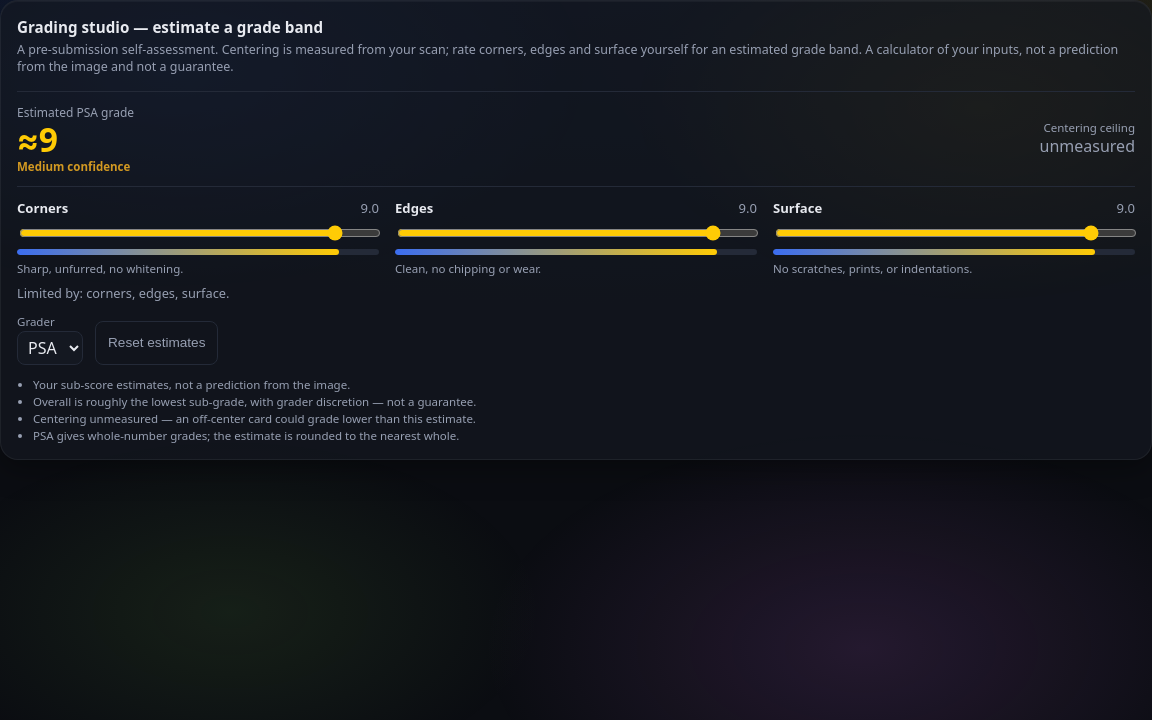
GradingStudio › switches grader and re-snaps the estimate (PSA whole vs BGS half)
Set the slider labelled "Surface 9.0 No scratches, prints, or indentations." to "7.5": (1033, 233) [775,225,1137,241]
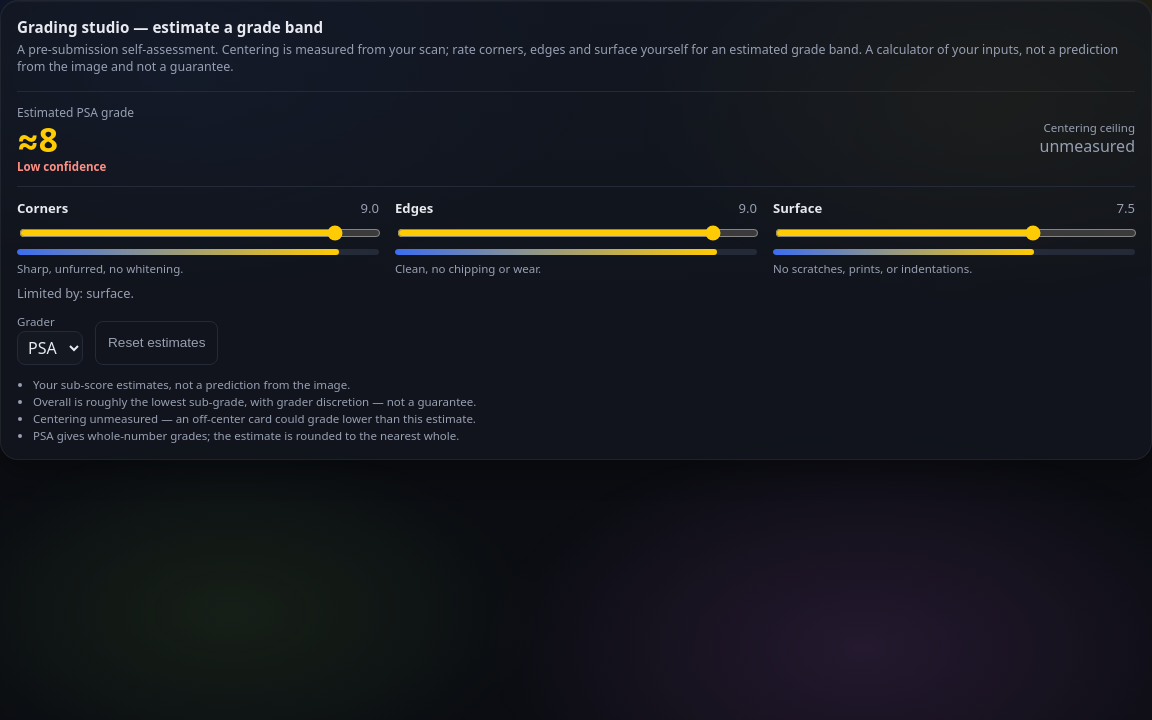
Expected: the text "≈8" is shown, [17,116,58,162]
Select "BGS" in the dropdown labelled "Grader": (50, 348) [17,331,83,365]
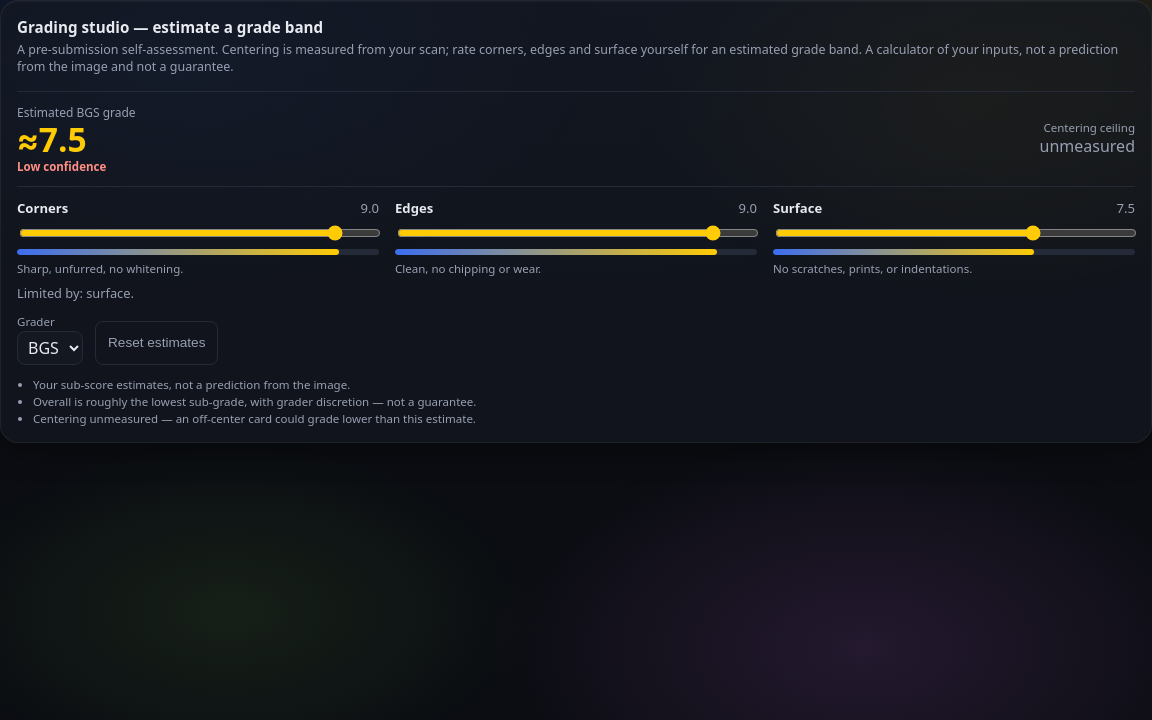
Expected: the text "≈7.5" is shown, [17,116,87,162]
